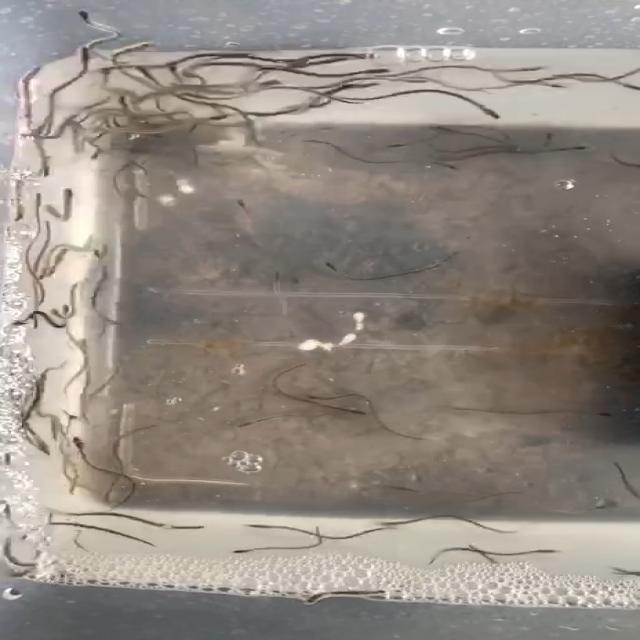inactive_glass_eel: (71, 5, 107, 26), (20, 64, 48, 89), (530, 77, 571, 93), (303, 589, 340, 606), (317, 256, 346, 276), (233, 413, 269, 429), (67, 46, 94, 66), (90, 247, 118, 266), (205, 112, 243, 126), (158, 60, 191, 76), (332, 401, 372, 414), (32, 437, 58, 456), (378, 516, 422, 527), (131, 64, 165, 78), (353, 64, 389, 77), (478, 101, 502, 120), (76, 434, 98, 454), (121, 42, 157, 54), (380, 139, 416, 151), (241, 520, 277, 532), (526, 544, 562, 556), (582, 406, 612, 419), (270, 270, 286, 294), (30, 192, 50, 211), (437, 161, 471, 172), (7, 567, 38, 579), (12, 314, 36, 329), (39, 158, 56, 179), (513, 63, 547, 73), (549, 145, 591, 153), (422, 124, 460, 132), (58, 188, 78, 203), (88, 145, 109, 159), (180, 520, 209, 530), (236, 198, 253, 215), (120, 95, 136, 111), (306, 392, 331, 402), (9, 204, 22, 223), (231, 548, 262, 555)
